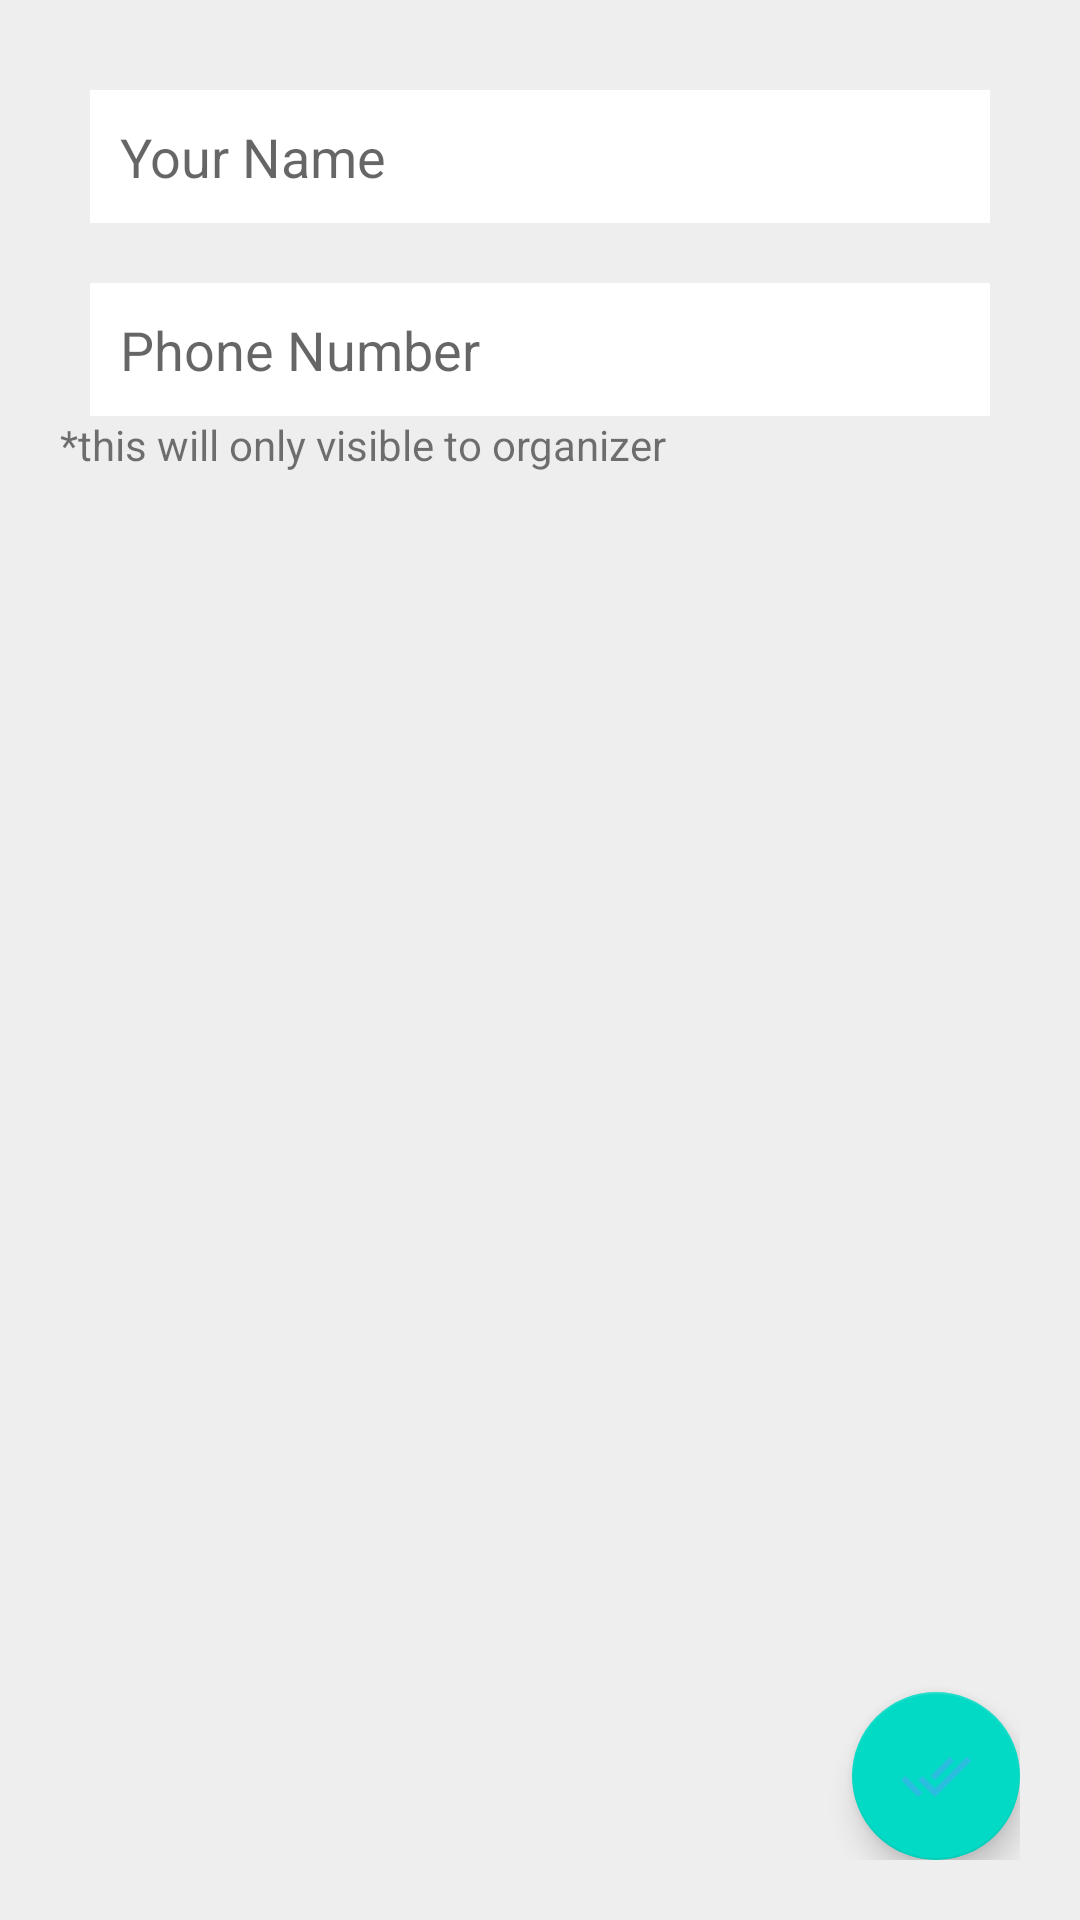

Icons on this 1080*1920 Android screen, each with its box as [x1=x1, y1=y1, x2=x2, y2=y2]:
done: [x1=852, y1=1692, x2=1020, y2=1860]
